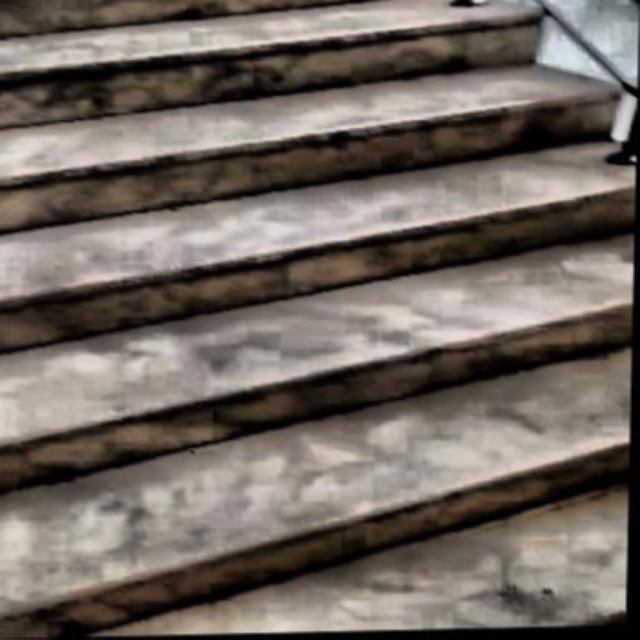stair: (0, 0, 638, 638)
